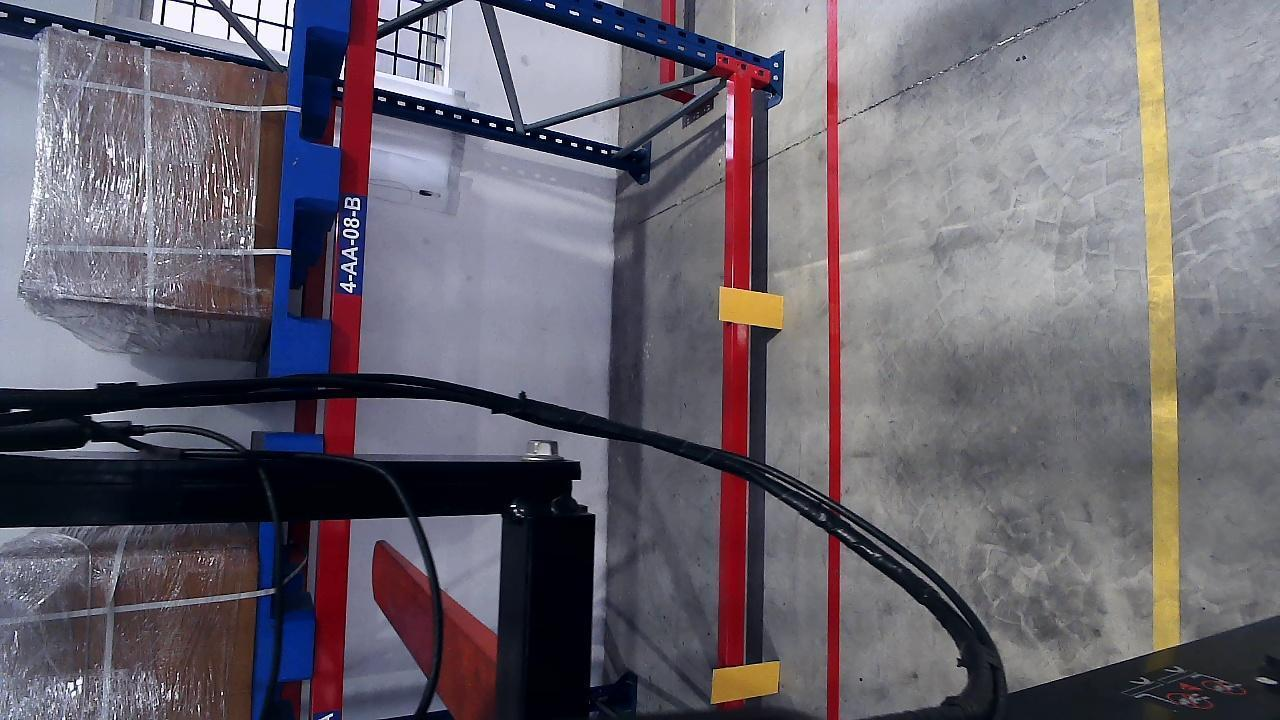red_line: (823, 2, 842, 718)
yellow_line: (1135, 0, 1181, 648)
